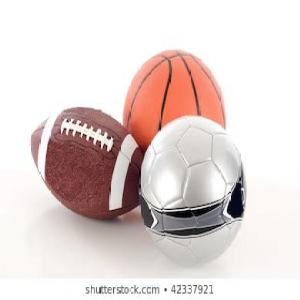Basket: (123, 47, 227, 162)
Football: (139, 114, 248, 269)
Rugby: (29, 104, 144, 222)
